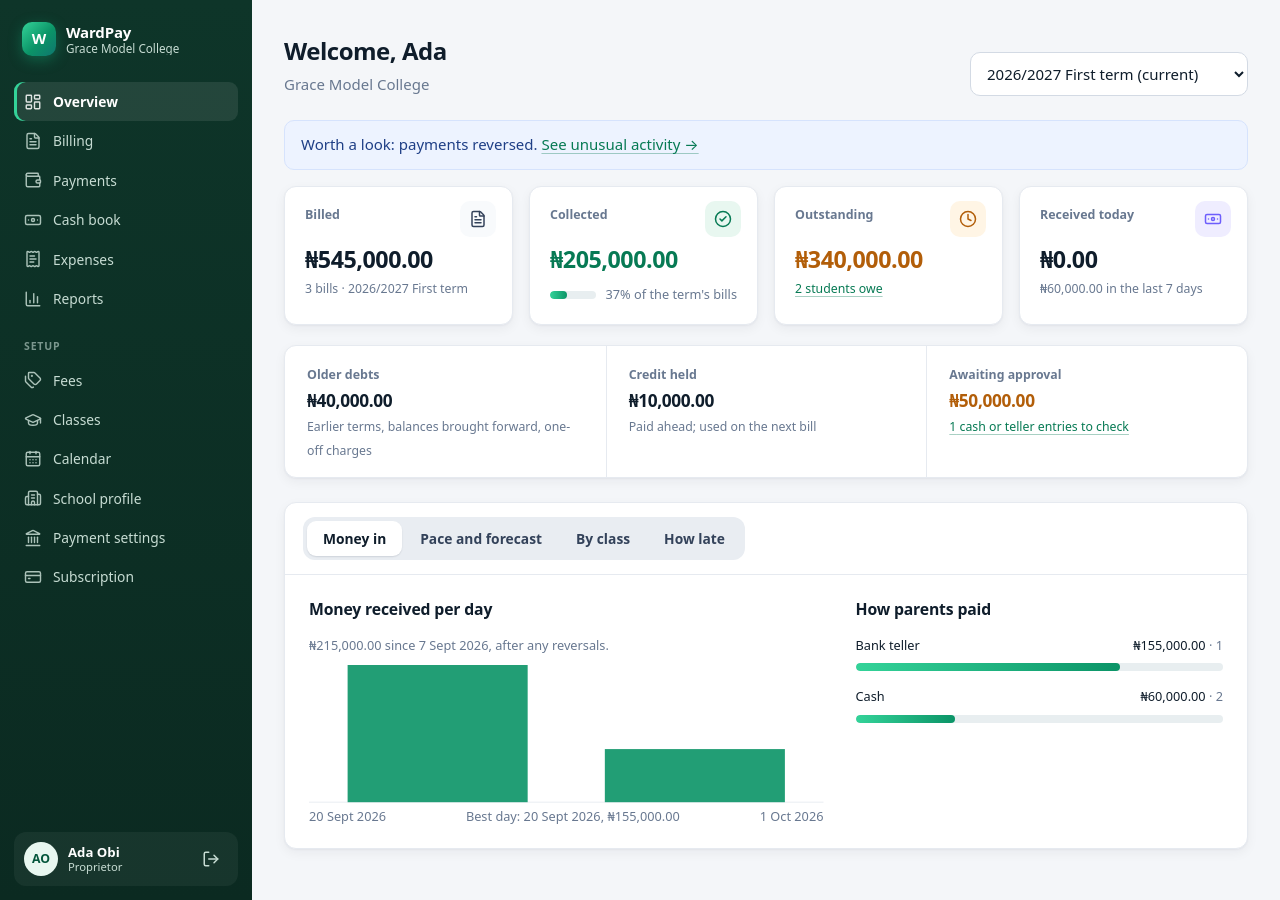
Test: dashboard and reports › shows the proprietor unusual activity, flagged on the dashboard too
Check: the text "Worth a look: payments reversed. See unusual activity →" is shown, box [284,120,1248,170]
Click the link "See unusual activity →" at coordinates (620, 144), box [542,134,699,154]
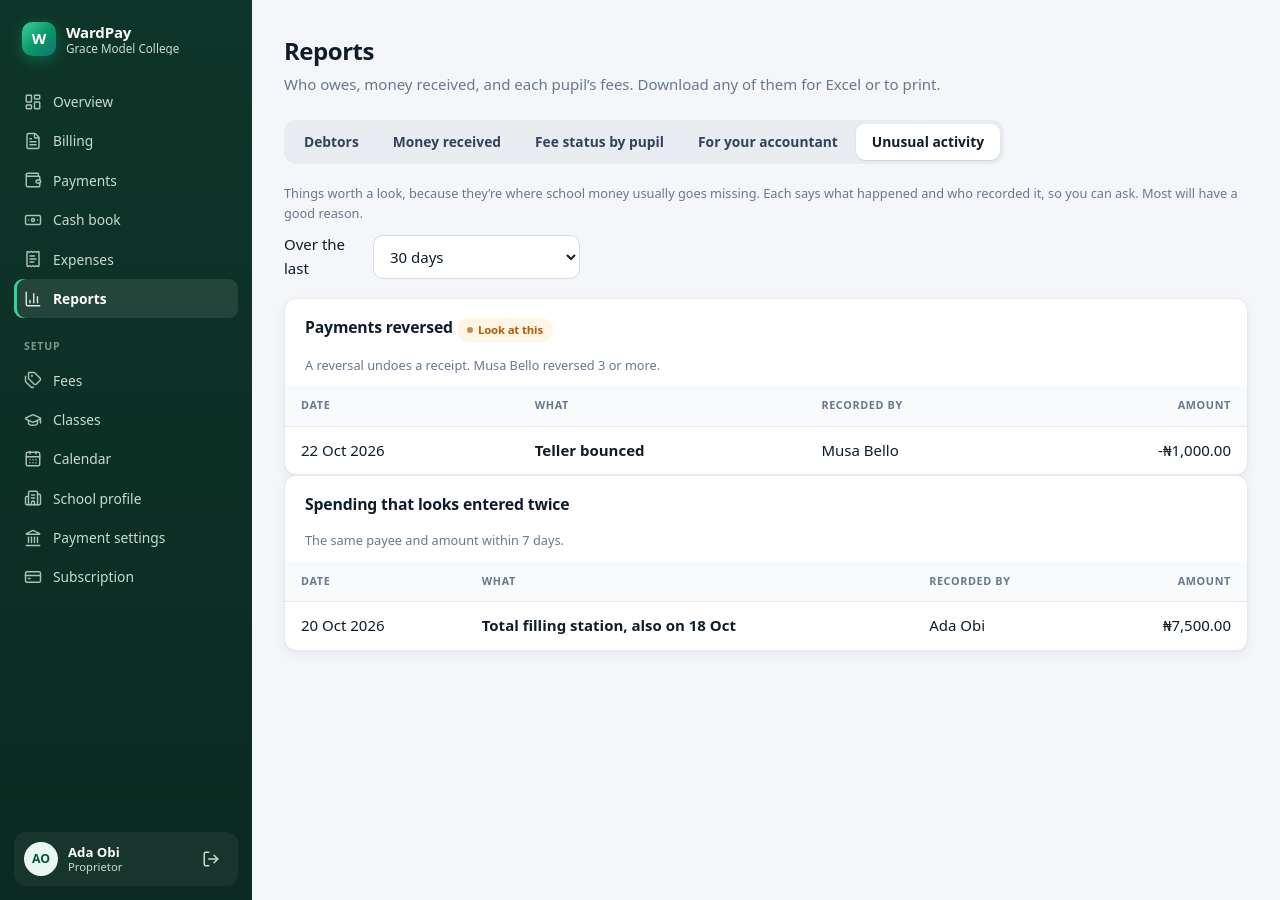
Check: the text "Look at this" is shown, box [457,318,553,342]
Check: the text "Musa Bello" is shown, box [805,427,1035,474]
Check: the text "Ada Obi" is shown, box [913,602,1090,650]
